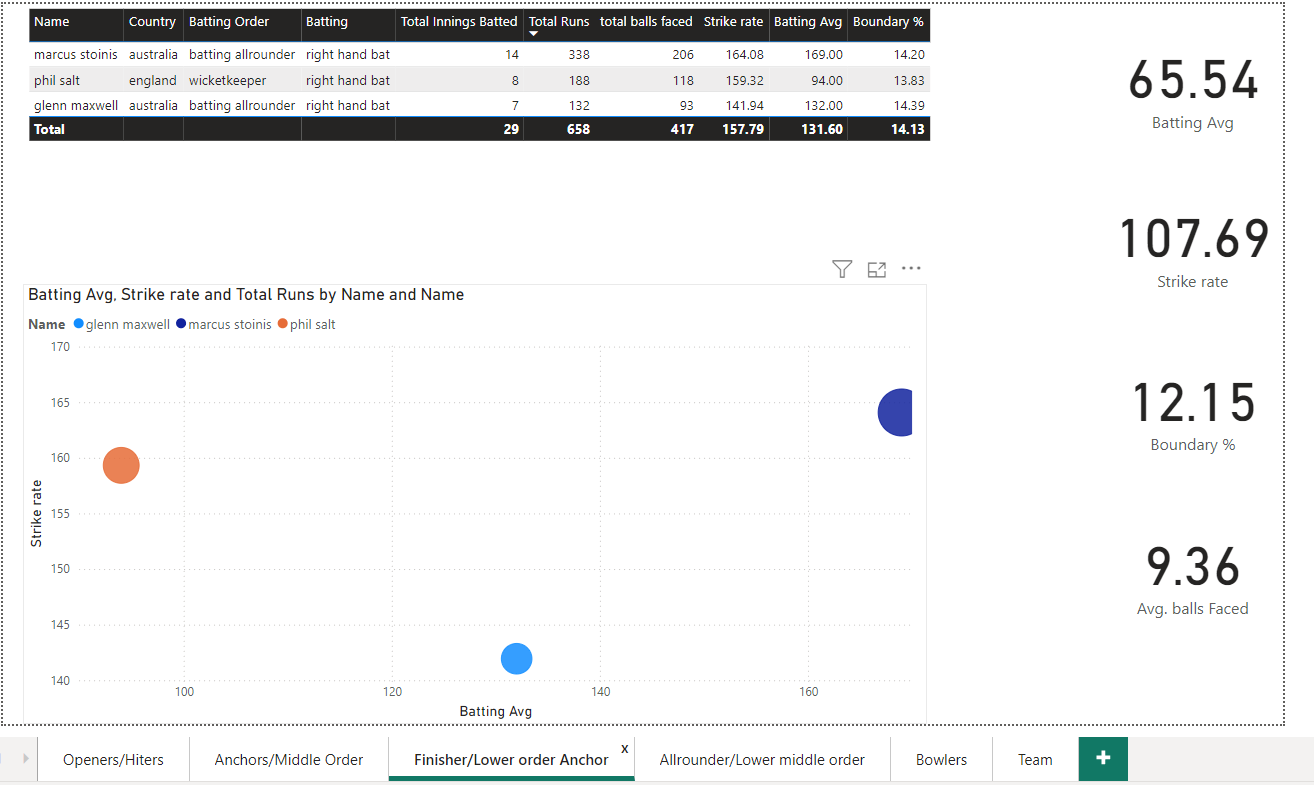

This screenshot's page, from the dashboard's own definition file:
{"tool":"powerbi","page":{"name":"Finisher/Lower order Anchor","canvas":[1280,720],"ordinal":2},"visuals":[{"type":"tableEx","fields":{"Values":["players_summary.Name","players_summary.Country","players_summary.Batting Order","players_summary.Batting","Key_Measures.Total Innings Batted","Key_Measures.Total Runs","Key_Measures.total balls faced","Key_Measures.Strike rate","Key_Measures.Batting Avg","Key_Measures.Boundary %"]},"box":[20,0,980,280],"z":0},{"type":"scatterChart","fields":{"Category":["players_summary.Name"],"X":["Key_Measures.Batting Avg"],"Y":["Key_Measures.Strike rate"],"Series":["players_summary.Name"],"Size":["Key_Measures.Total Runs"]},"box":[20,280,904.3,440],"z":1000},{"type":"card","fields":{"Values":["Key_Measures.Batting Avg"]},"box":[1100,0,180,158.6],"z":2000},{"type":"card","fields":{"Values":["Key_Measures.Strike rate"]},"box":[1100,158.6,180,158.6],"z":3000},{"type":"card","fields":{"Values":["Key_Measures.Boundary %"]},"box":[1100,317.1,180,168.6],"z":4000},{"type":"card","fields":{"Values":["Key_Measures.Avg. balls Faced"]},"box":[1100,485.7,180,158.6],"z":5000}]}

Visuals, with their boxes on the page's 1280x720 design canvas (x1, y1, x2, y2). These are canvas units, not pixel positions in the 1314x785 screenshot, which may show the page scaled, cropped or inside an application window:
tableEx - players_summary.Name x players_summary.Country: locate(20, 0, 1000, 280)
scatterChart - players_summary.Name x Key_Measures.Batting Avg: locate(20, 280, 924, 720)
card - Key_Measures.Batting Avg: locate(1100, 0, 1280, 159)
card - Key_Measures.Strike rate: locate(1100, 159, 1280, 317)
card - Key_Measures.Boundary %: locate(1100, 317, 1280, 486)
card - Key_Measures.Avg. balls Faced: locate(1100, 486, 1280, 644)
